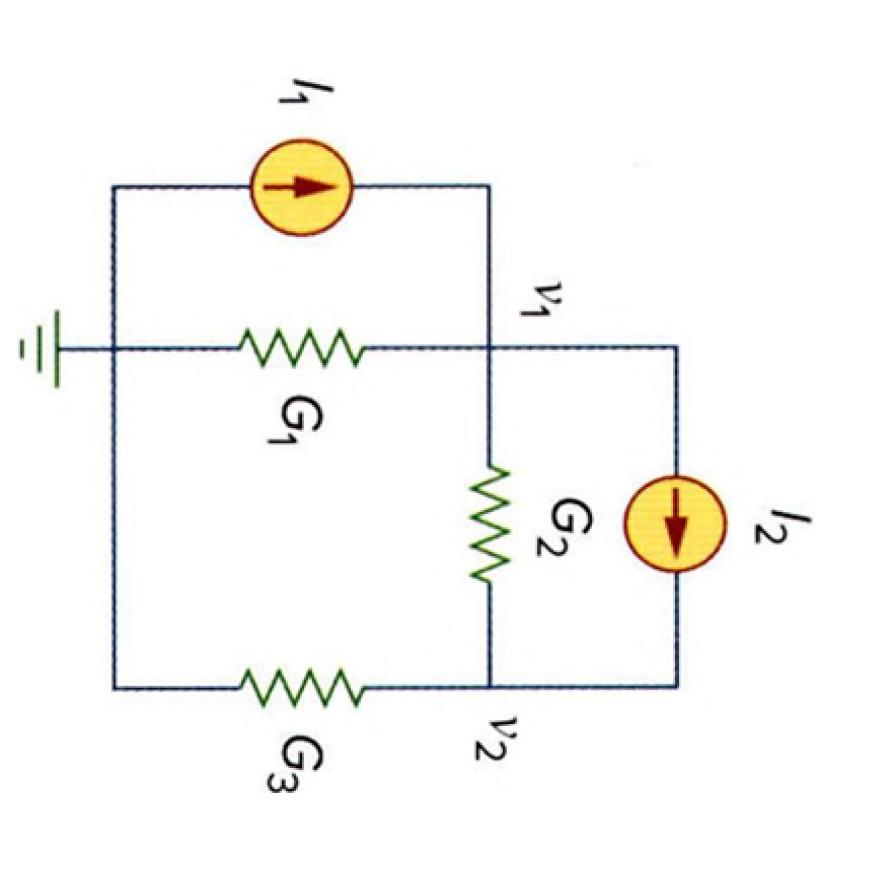I2: (249, 139, 353, 235)
I3: (624, 476, 726, 571)
